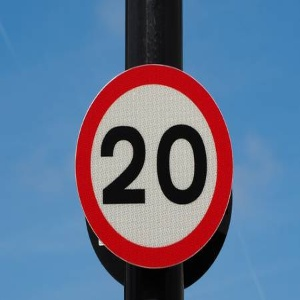20 speed: (75, 64, 233, 269)
